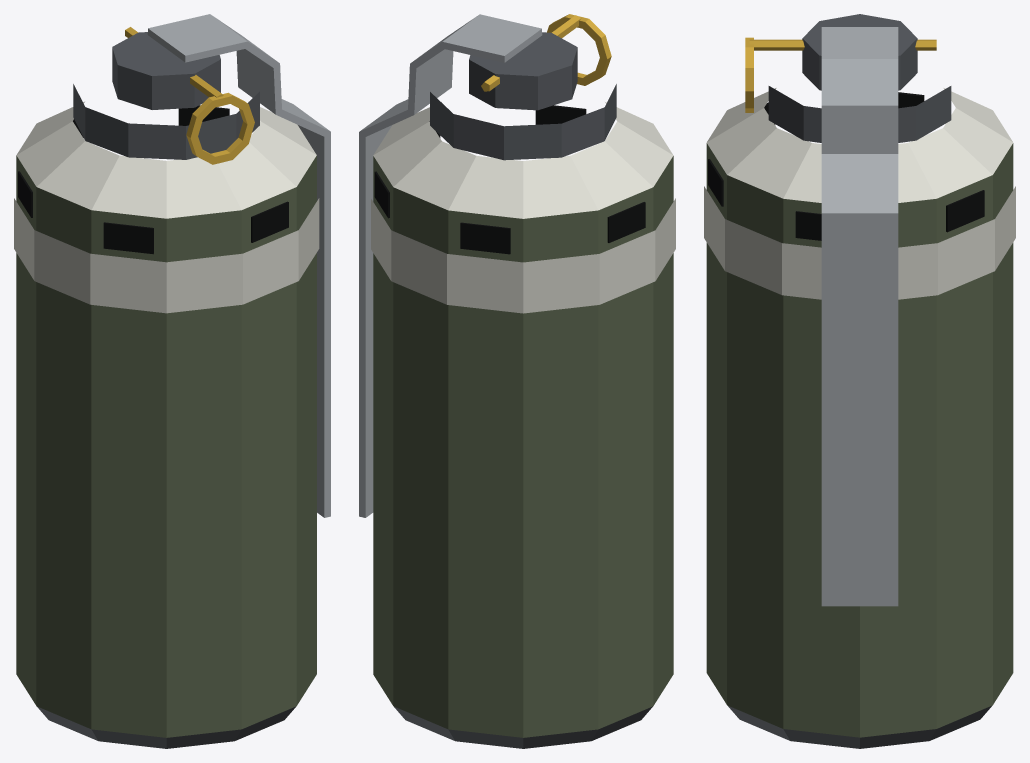
File: smoke_bomb.glb
The picture shows the model from 3 angles, left to right: view 1: azimuth 30°, elevation 25°; view 2: azimuth 150°, elevation 25°; view 3: azimuth 270°, elevation 25°; orthographic projection. The views are drawn at different scales.
Parts seen in each view (by area): view 1: Smoke_Body, Smoke_Lever, Smoke_Pin; view 2: Smoke_Body, Smoke_Lever, Smoke_Pin; view 3: Smoke_Body, Smoke_Lever, Smoke_Pin.
Part boxes in pixels (<box>): Smoke_Body: <box>14,32,319,748</box>; Smoke_Lever: <box>147,14,330,517</box>; Smoke_Pin: <box>125,27,254,164</box>; Smoke_Body: <box>371,32,675,748</box>; Smoke_Lever: <box>359,14,542,517</box>; Smoke_Pin: <box>481,14,611,91</box>; Smoke_Body: <box>704,14,1015,748</box>; Smoke_Lever: <box>821,27,898,606</box>; Smoke_Pin: <box>745,37,936,112</box>.
Bounding box in the file's own units: 0.0683 × 0.1526 × 0.065.
